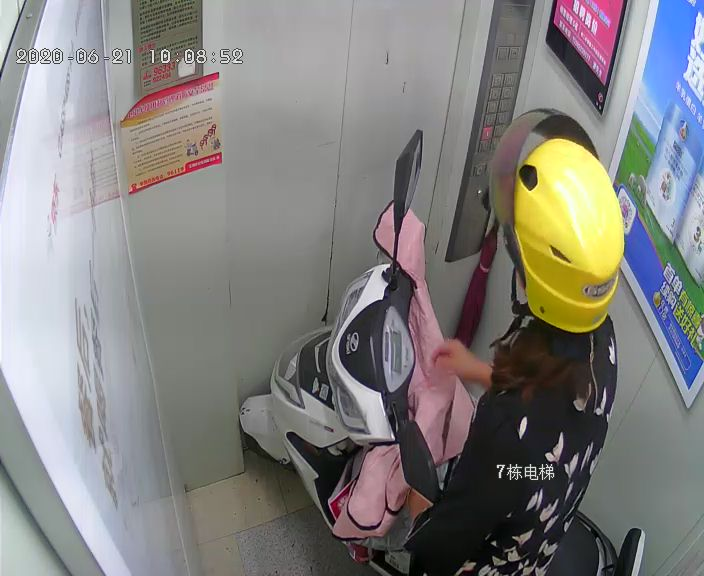Electric-bicycle: (242, 129, 645, 573)
